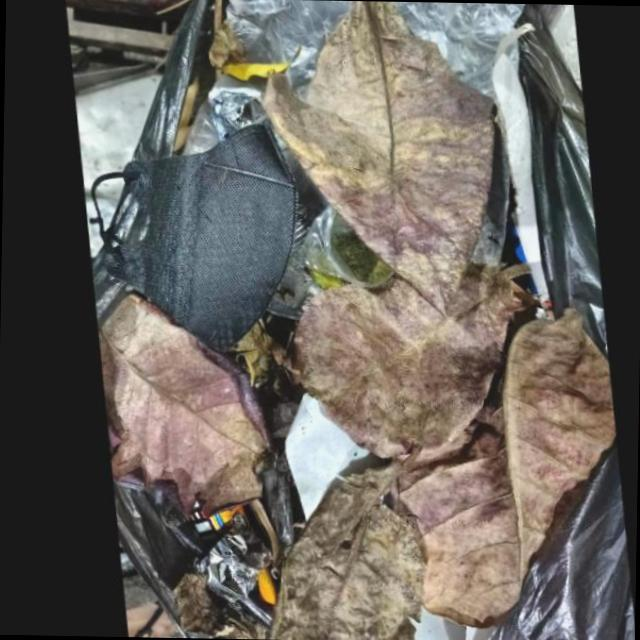khau_trang: (98, 126, 292, 351)
la_cay: (259, 0, 494, 307), (390, 308, 608, 628), (287, 263, 527, 459), (91, 292, 259, 521), (257, 462, 418, 640), (219, 45, 299, 82)
